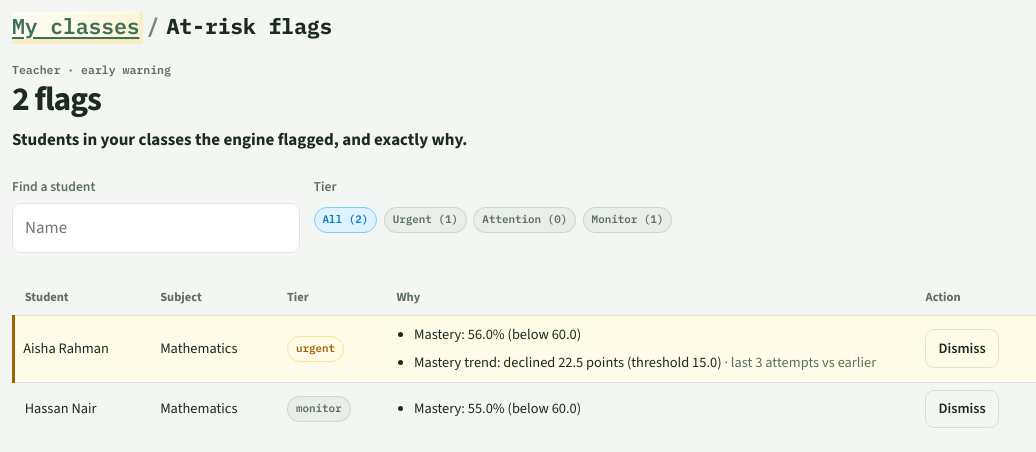
AtRiskPage › filters by tier and narrows the count shown on each tier button
Expected: the text "Aisha Rahman" is shown, [14,315,149,382]
Expected: the text "Hassan Nair" is shown, [14,382,149,436]
Click the button "Urgent (1)".
click(425, 220)  # box [384,207,467,233]
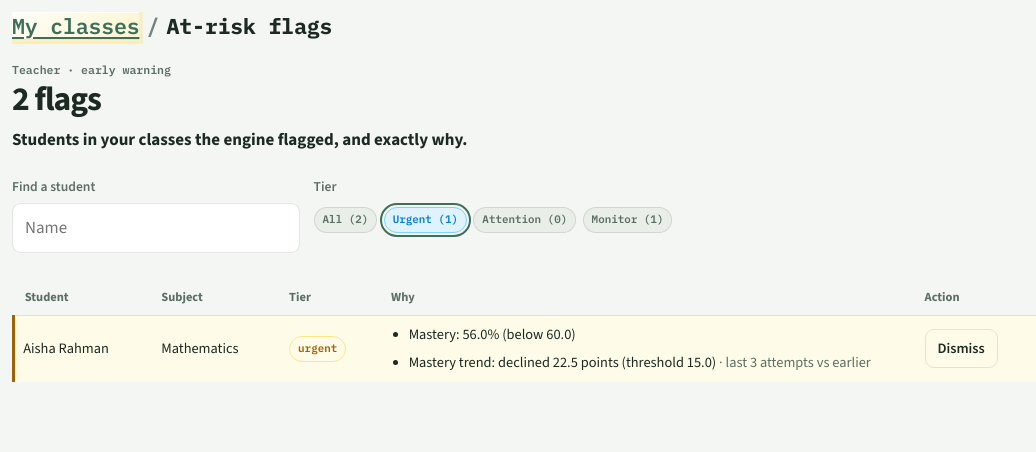
Expected: the text "Aisha Rahman" is shown, [14,315,150,382]
Expected: the text "Hassan Nair" is gone
